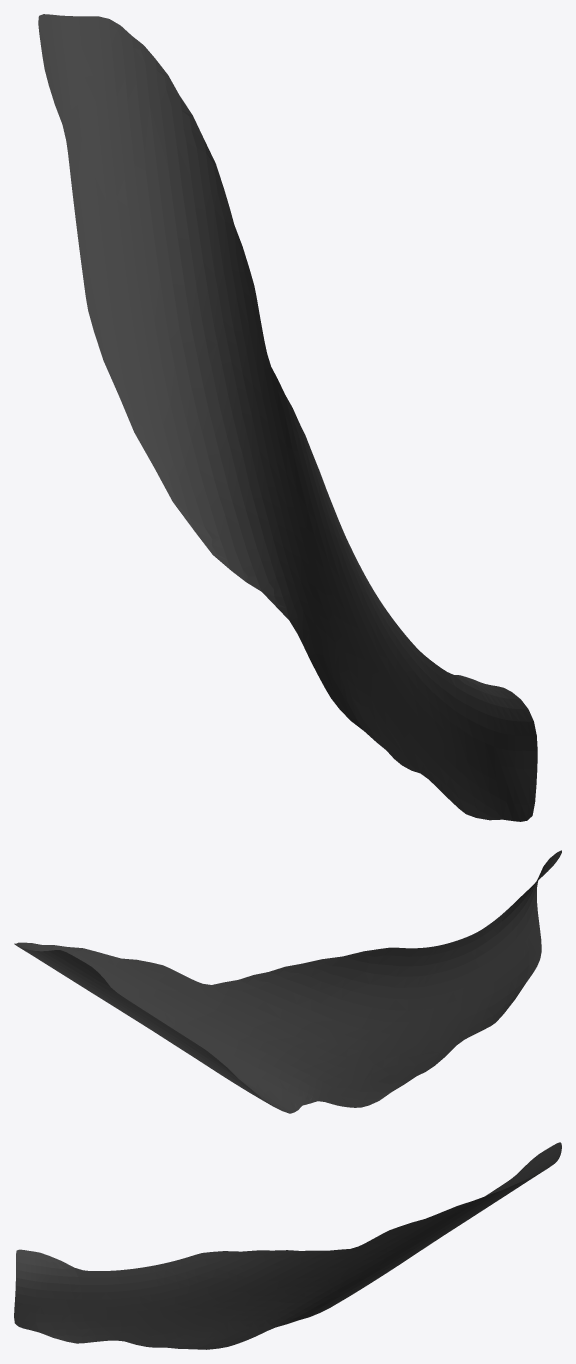
Rendered from Humerus_brachialis_groove.glb.
3 views of the same model, one above another, from view 1: azimuth 30°, elevation 25°; view 2: azimuth 150°, elevation 25°; view 3: azimuth 270°, elevation 25° (orthographic). The views are drawn at different scales.
Parts seen in each view (by area): view 1: Humerus_brachialis_groove; view 2: Humerus_brachialis_groove; view 3: Humerus_brachialis_groove.
Part boxes in pixels (<box>): Humerus_brachialis_groove: <box>38,14,537,821</box>; Humerus_brachialis_groove: <box>14,850,561,1113</box>; Humerus_brachialis_groove: <box>14,1142,561,1349</box>.
Size of the model in its own units: 0.2126 by 0.5278 by 1.2.
Materials: 1 (1 with a texture image).
